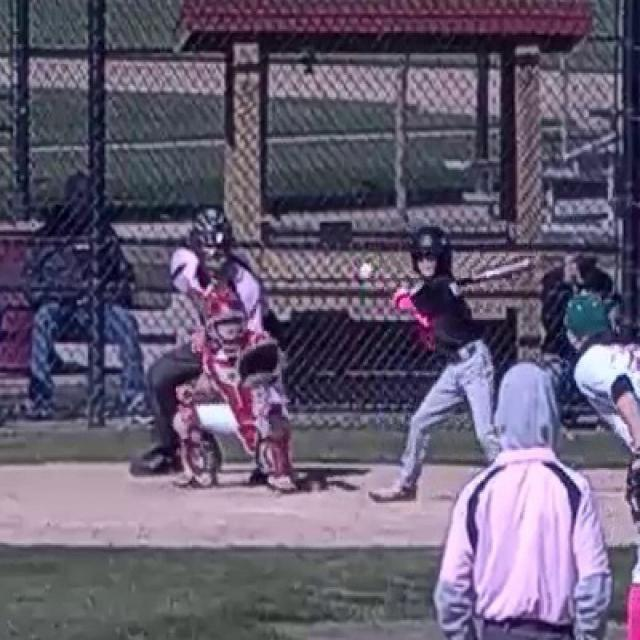baseball: (359, 264, 371, 279)
